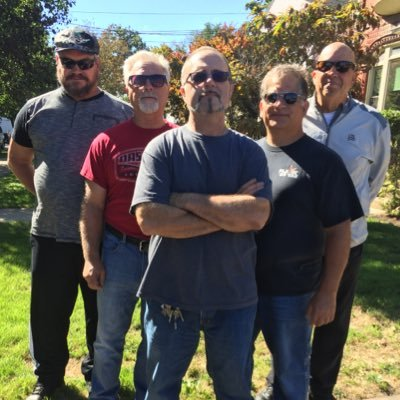Person: (114, 41, 274, 400), (240, 63, 358, 400), (11, 22, 115, 396), (77, 50, 182, 400), (294, 38, 395, 400)
